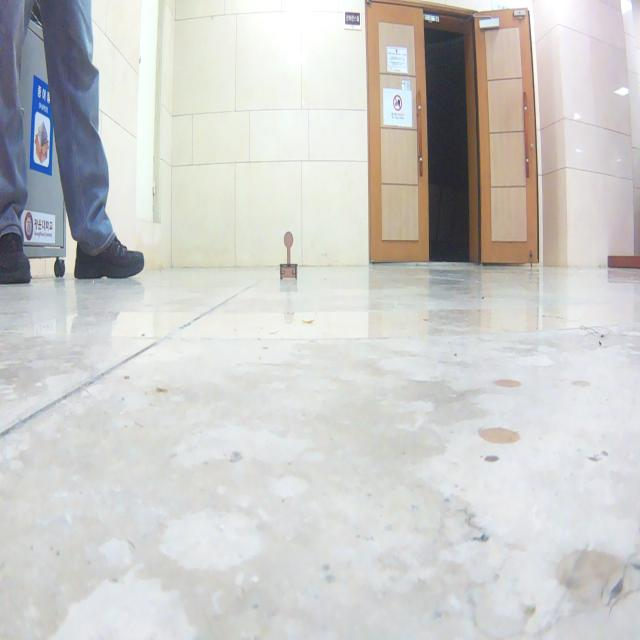target: (280, 230, 298, 280)
